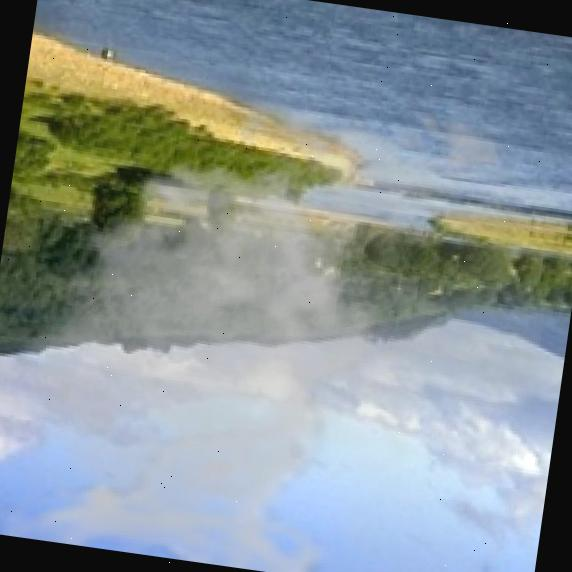smoke: (0, 41, 572, 572)
